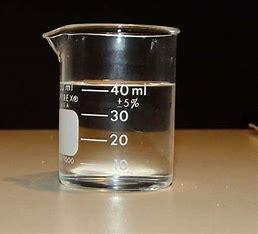Beaker: (39, 18, 183, 190)
